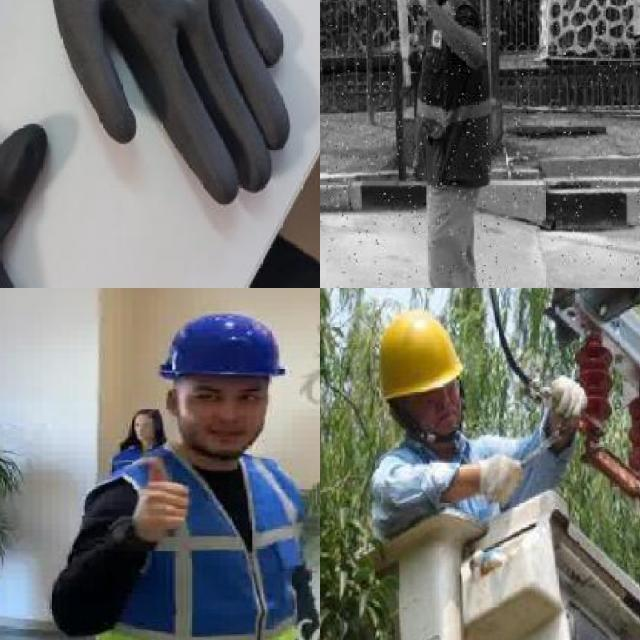apron: (0, 0, 259, 288)
